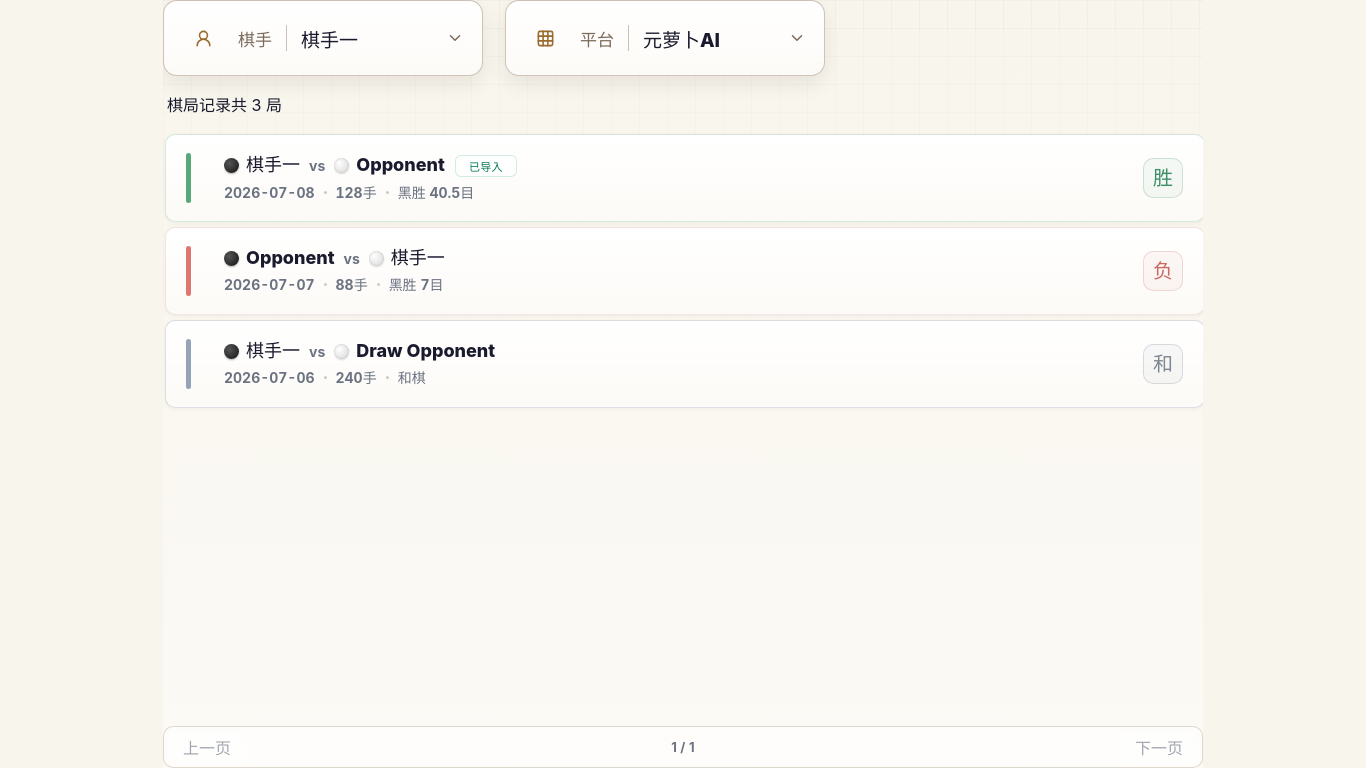
Test: YuanluoboImportDialog › loads categories, records, and marks imported games
Expected: the text "棋手一" is shown, [301,28,358,52]
Expected: the text "棋局记录" is shown, [167,92,231,116]
Click the button "棋手 棋手一". click: (323,38)
box: [163,0,483,76]
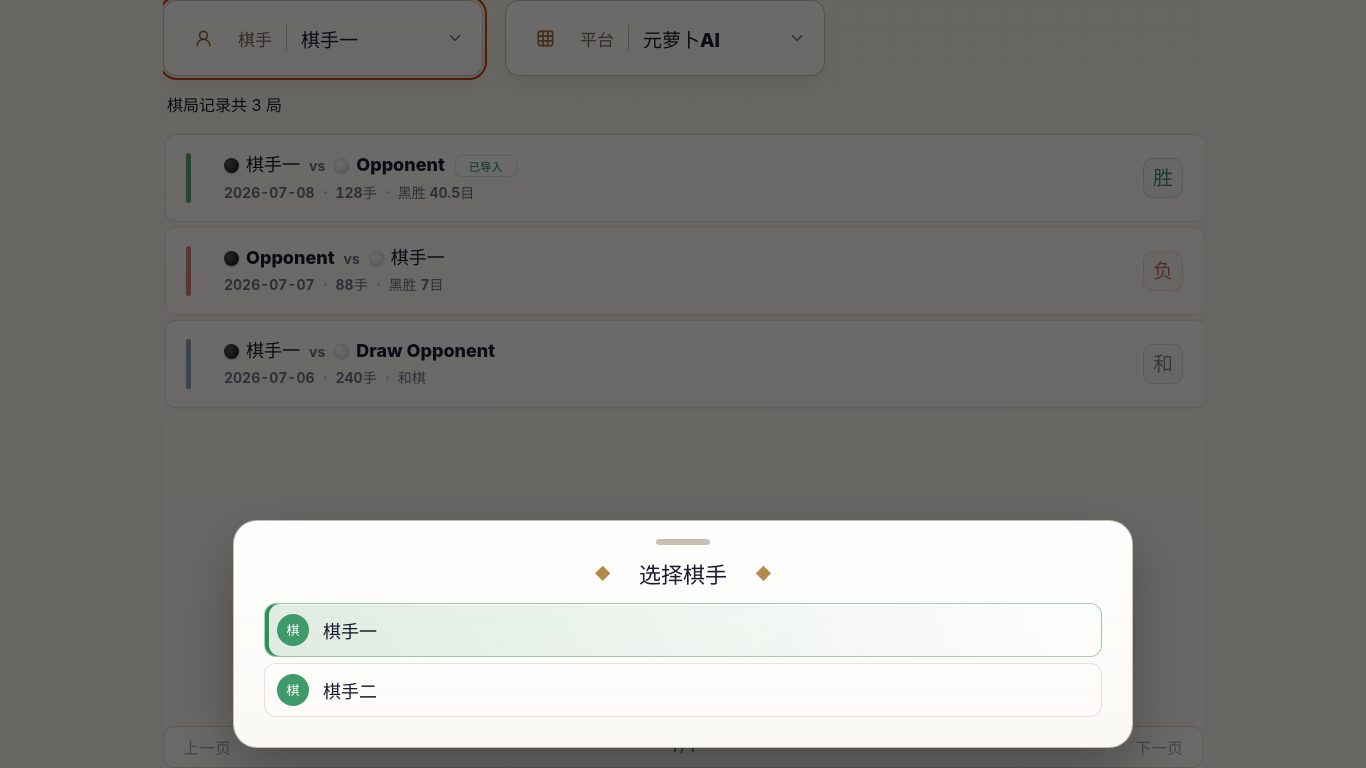
Now the button "棋 棋手二" is shown
Click the button "棋 棋手二". click: (293,690)
box: [264,663,1102,717]
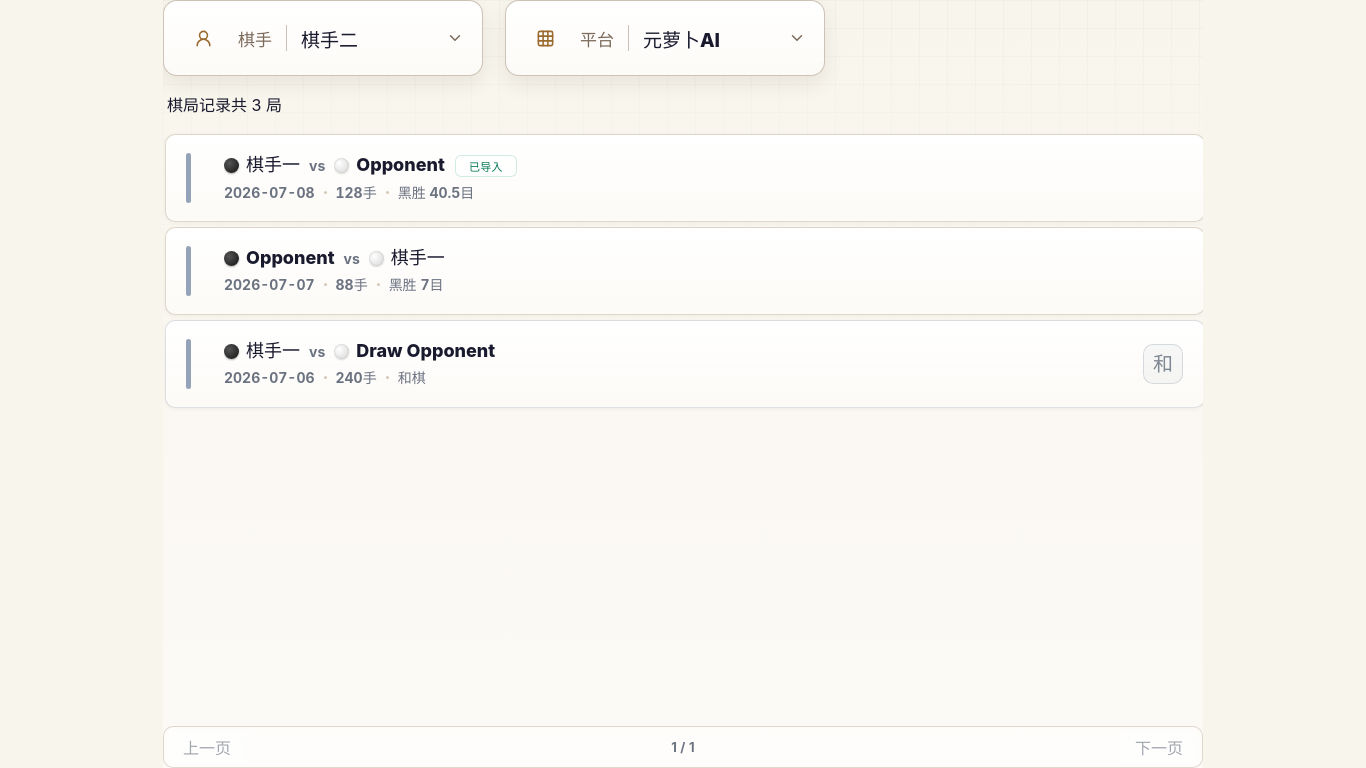
Now the heading "选择棋手" is gone
Now the button "棋手 棋手二" is shown, box [163,0,483,76]
Click the button "平台 元萝卜AI". click: (665,38)
box: [505,0,825,76]
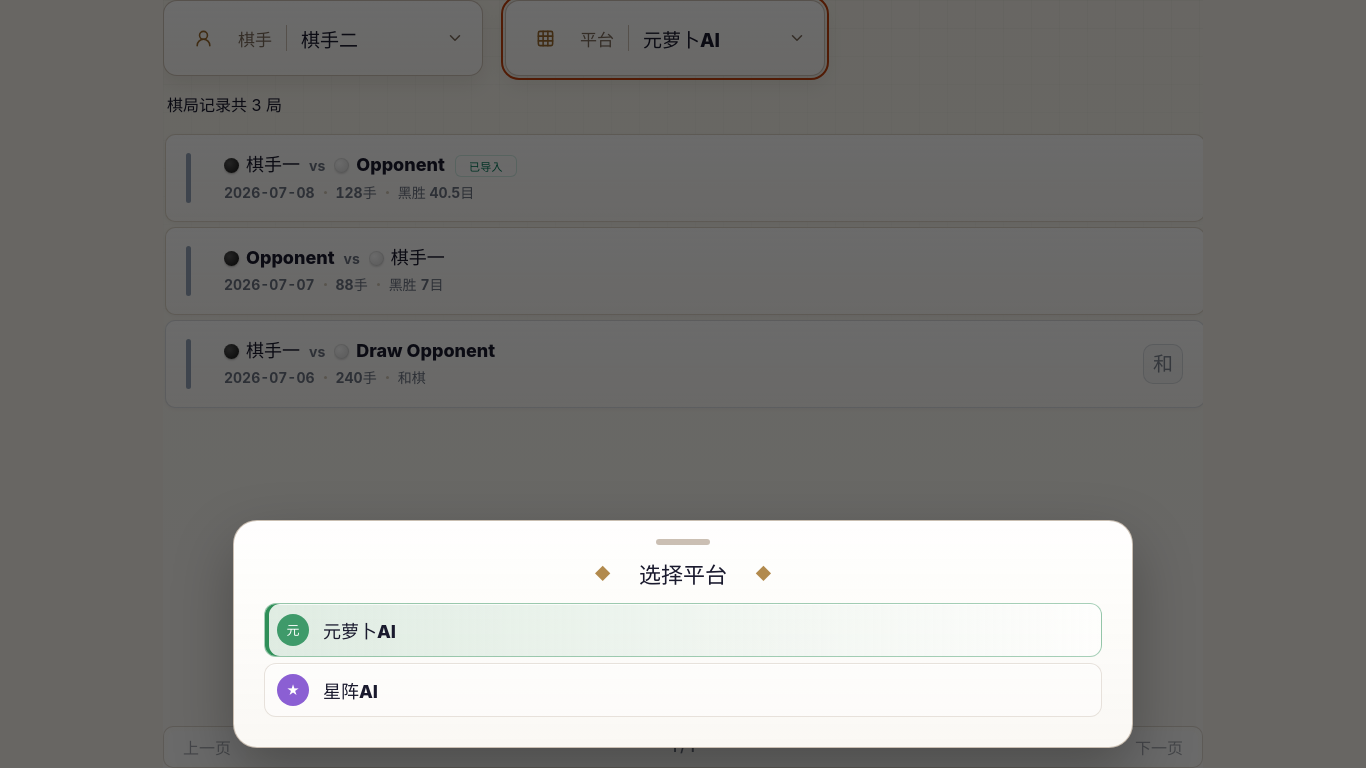
Now the button "★ 星阵AI" is shown
Click the button "★ 星阵AI". click: (293,690)
box: [264,663,1102,717]
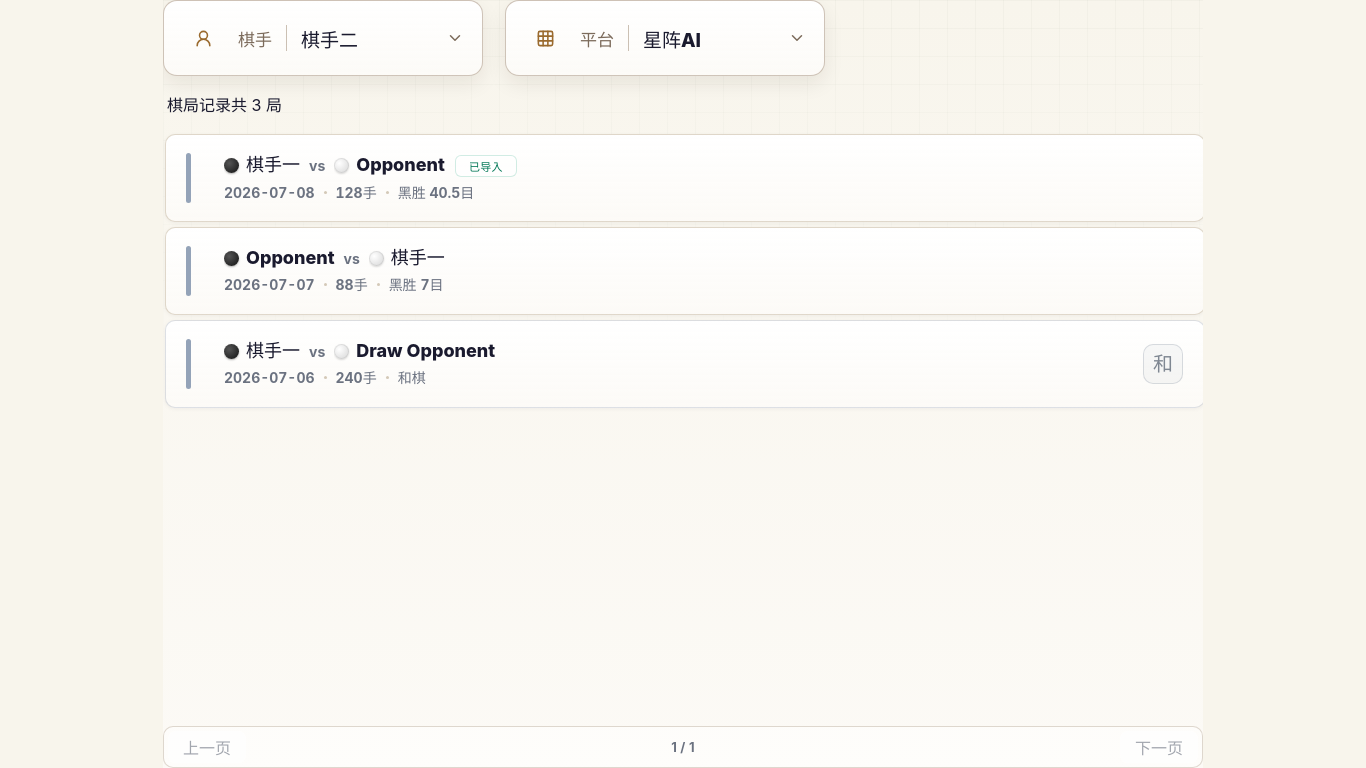
Now the heading "选择平台" is gone
